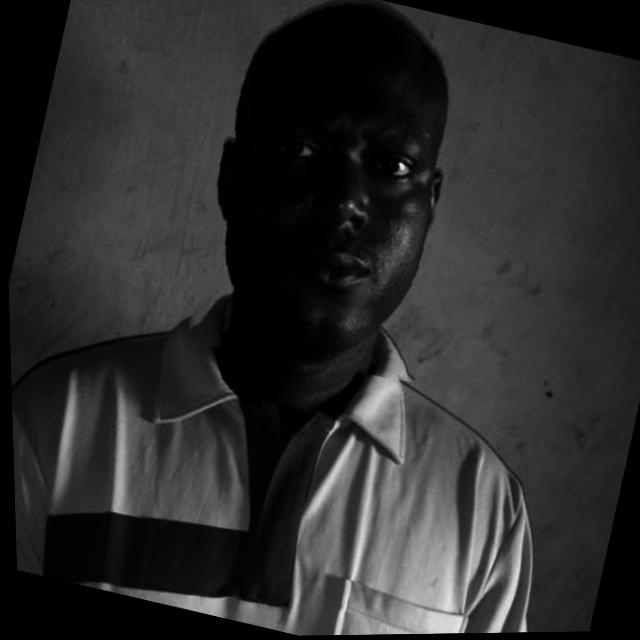sad: (162, 0, 494, 392)
